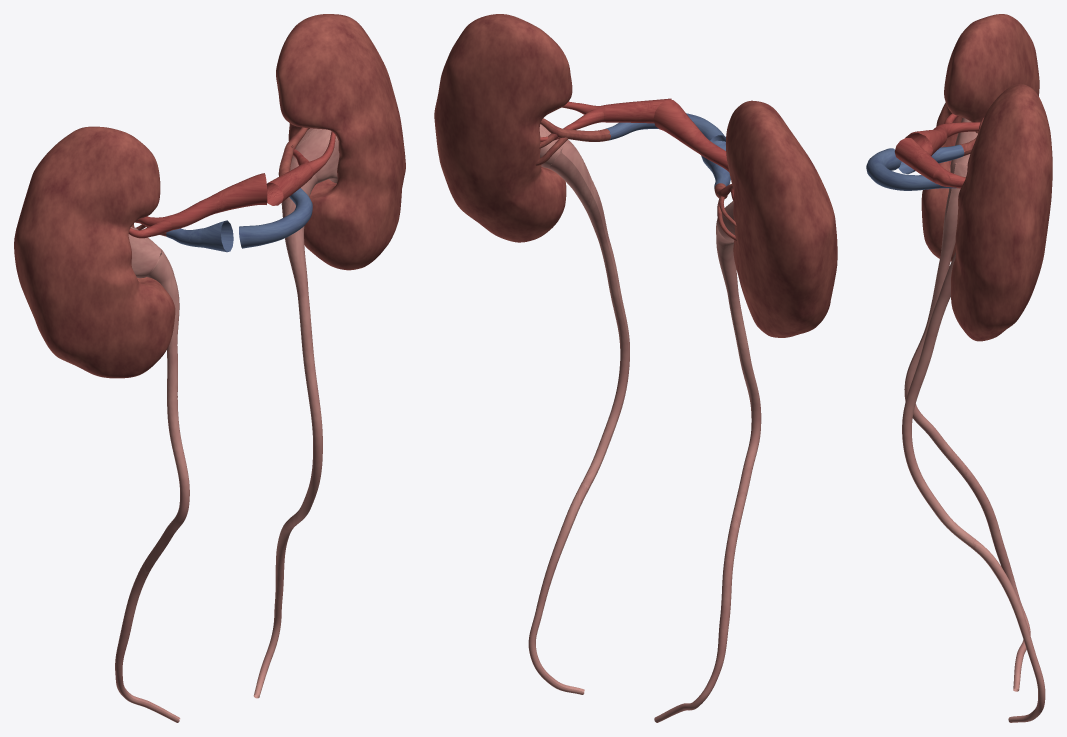
The model's file is kidneys.glb.
3 renders of one model, left to right at view 1: azimuth 30°, elevation 25°; view 2: azimuth 150°, elevation 25°; view 3: azimuth 270°, elevation 25°, orthographic.
Parts seen in each view (by area): view 1: Kidney.r.001, Kidney.l.001, Ureter.l.001, Ureter.r.001, Right renal artery.001, Left renal vein.001, Renal pelvis.l.001, Right renal vein.001, Left renal artery.001, Renal pelvis.r.001; view 2: Kidney.l.001, Kidney.r.001, Ureter.l.001, Ureter.r.001, Right renal artery.001, Left renal artery.001, Intrarenal veins of left kidney.001, Left renal vein.001; view 3: Kidney.l.001, Kidney.r.001, Ureter.l.001, Ureter.r.001, Left renal vein.001, Left renal artery.001, Right renal artery.001, Right renal vein.001, Renal pelvis.r.001, Anterior branch of renal artery.l.001, Posterior branch of renal artery.r.001.
Part boxes in pixels (x1,y1,x2,y2): Kidney.r.001: (14,126,175,378); Kidney.l.001: (276,14,405,270); Ureter.l.001: (253,162,322,698); Ureter.r.001: (115,249,189,722); Right renal artery.001: (169,173,267,230); Left renal vein.001: (239,188,312,248); Renal pelvis.l.001: (291,128,339,183); Right renal vein.001: (166,220,233,252); Left renal artery.001: (266,164,313,205); Renal pelvis.r.001: (128,227,160,278); Kidney.l.001: (434,14,572,242); Kidney.r.001: (726,100,837,337); Ureter.l.001: (528,140,629,694); Ureter.r.001: (654,220,761,722); Right renal artery.001: (653,100,728,171); Left renal artery.001: (604,98,671,123); Intrarenal veins of left kidney.001: (535,118,610,165); Left renal vein.001: (605,113,725,142); Kidney.l.001: (951,84,1052,341); Kidney.r.001: (921,14,1039,261); Ureter.l.001: (902,252,1045,722); Ureter.r.001: (904,163,1030,691); Left renal vein.001: (866,148,956,190); Left renal artery.001: (894,138,943,183); Right renal artery.001: (905,124,951,156); Right renal vein.001: (898,144,964,174); Renal pelvis.r.001: (950,117,977,165); Anterior branch of renal artery.l.001: (934,168,963,187); Posterior branch of renal artery.r.001: (942,122,980,137).
Bounding box in the file's own units: 0.1778 × 0.2951 × 0.074.
9 materials, 9 textured.
